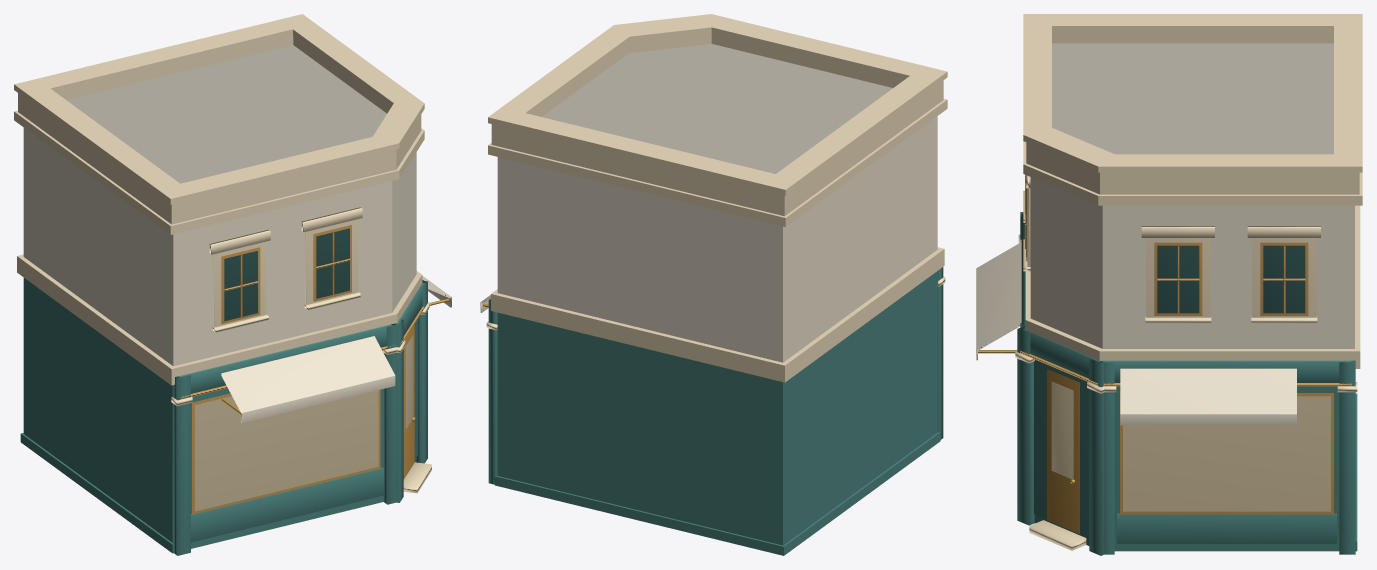
Rendered from building_corner.glb.
3 renders of one model, left to right at view 1: azimuth 30°, elevation 25°; view 2: azimuth 150°, elevation 25°; view 3: azimuth 270°, elevation 25°, orthographic. The views are drawn at different scales.
Parts seen in each view (by area): view 1: WallUpper, Roof, WallGround, ParapetCap, ShopFWinGlass0, Parapet, AwnF, Band0, ShopFStall0, Cornice, ShopFPilaster0.10, Plinth (+20 smaller); view 2: WallGround, WallUpper, Roof, ParapetCap, Parapet, Band0, Cornice, Plinth, ShopSPilaster3.24, ShopFPilaster0.10; view 3: WallUpper, Roof, ParapetCap, ShopSWinGlass0, Parapet, AwnS, ShopSStall0, Band0, Cornice, AwnF, ShopCBack, ShopSPilaster3.24 (+20 smaller).
Boxes of the visible parts, left/top/right/bottom form: WallUpper: left=23, top=128, right=416, bottom=366; Roof: left=67, top=45, right=386, bottom=183; WallGround: left=23, top=278, right=172, bottom=542; ParapetCap: left=14, top=14, right=424, bottom=204; ShopFWinGlass0: left=195, top=390, right=378, bottom=511; Parapet: left=18, top=35, right=421, bottom=224; AwnF: left=221, top=336, right=395, bottom=413; Band0: left=17, top=254, right=422, bottom=385; ShopFStall0: left=191, top=467, right=384, bottom=542; Cornice: left=14, top=110, right=424, bottom=234; ShopFPilaster0.10: left=172, top=375, right=190, bottom=555; Plinth: left=20, top=433, right=416, bottom=553; WallGround: left=497, top=271, right=937, bottom=545; WallUpper: left=497, top=116, right=937, bottom=362; Roof: left=542, top=44, right=892, bottom=173; ParapetCap: left=488, top=14, right=947, bottom=195; Parapet: left=491, top=33, right=943, bottom=216; Band0: left=491, top=247, right=944, bottom=382; Cornice: left=488, top=99, right=947, bottom=226; Plinth: left=494, top=432, right=940, bottom=555; ShopSPilaster3.24: left=488, top=299, right=497, bottom=484; ShopFPilaster0.10: left=937, top=267, right=943, bottom=439; WallUpper: left=1030, top=177, right=1354, bottom=348; Roof: left=1052, top=43, right=1333, bottom=154; ParapetCap: left=1023, top=14, right=1362, bottom=172; ShopSWinGlass0: left=1123, top=396, right=1330, bottom=511; Parapet: left=1026, top=32, right=1359, bottom=194; AwnS: left=1120, top=368, right=1296, bottom=414; ShopSStall0: left=1117, top=513, right=1336, bottom=543; Band0: left=1025, top=205, right=1360, bottom=368; Cornice: left=1023, top=141, right=1362, bottom=205; AwnF: left=976, top=242, right=1021, bottom=350; ShopCBack: left=1034, top=359, right=1089, bottom=536; ShopSPilaster3.24: left=1339, top=360, right=1355, bottom=554.
Size of the model in its own units: 5.39 by 5.65 by 5.11.
